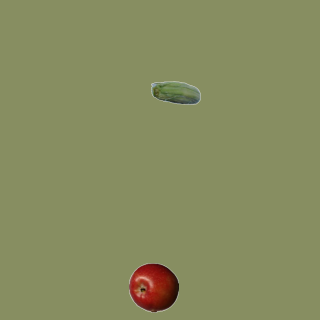Apple Braeburn: (128, 262, 178, 312)
Corn Husk: (150, 69, 200, 119)
